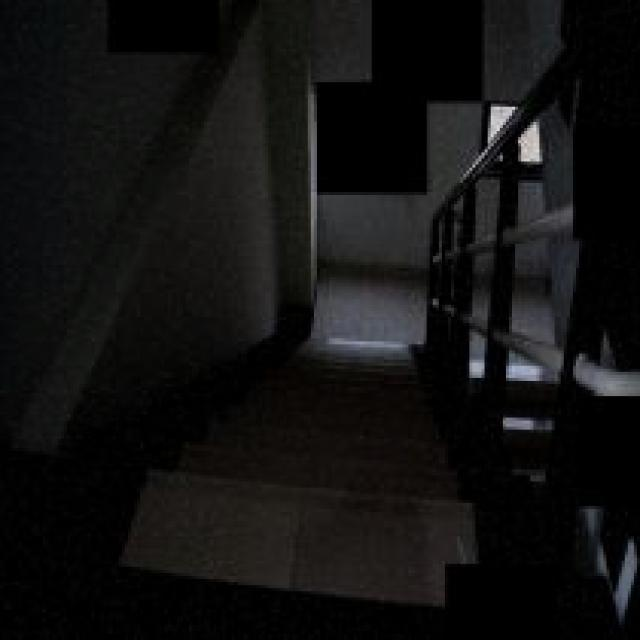downstair: (211, 401, 440, 599)
